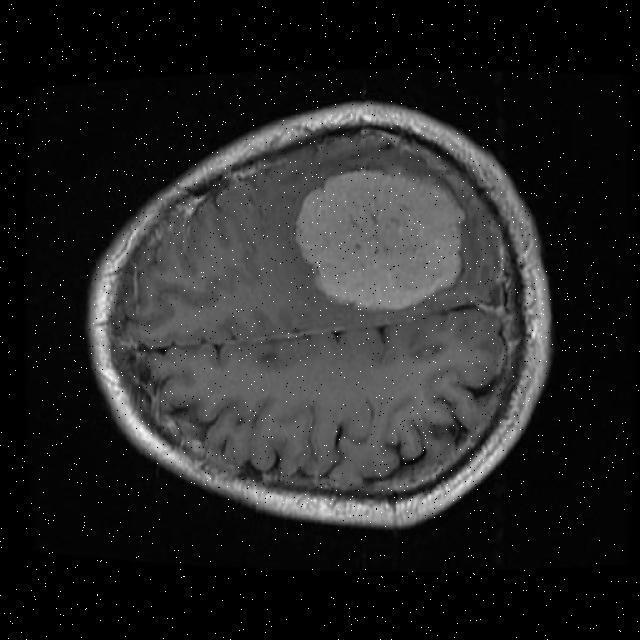Meningioma: (296, 170, 463, 309)
